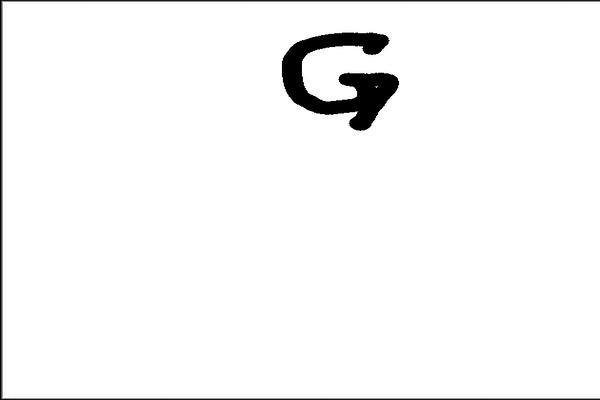G: (278, 29, 401, 132)
